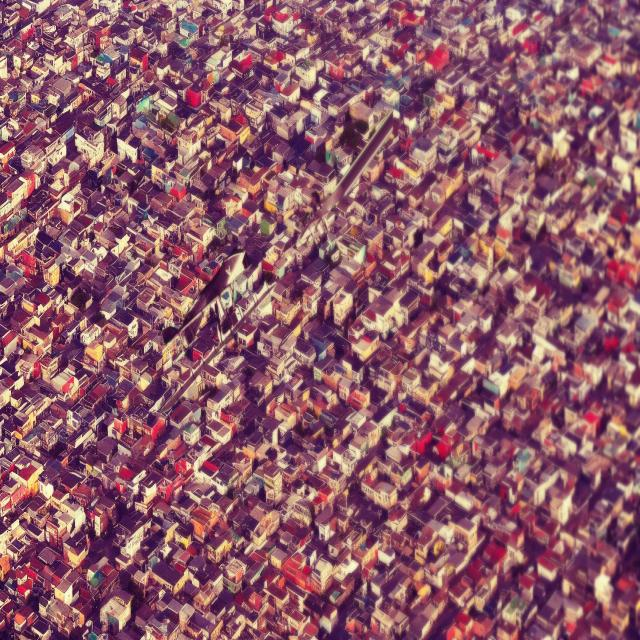airplane: (161, 250, 276, 412), (294, 110, 392, 253)
